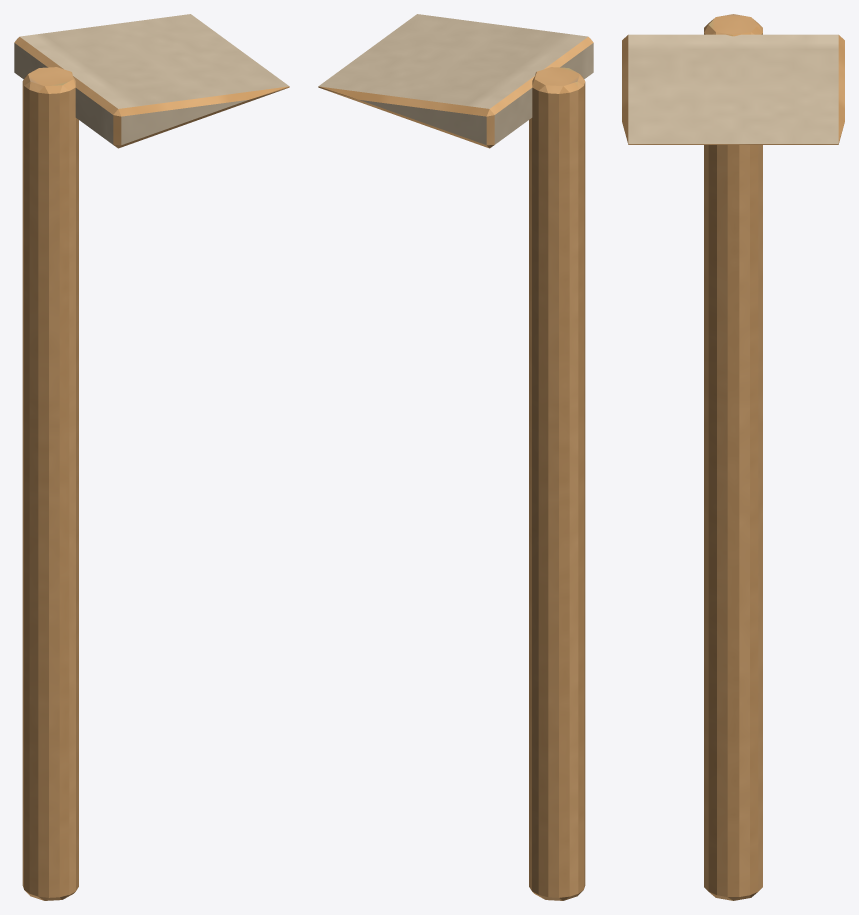
File: sm_tool_hoe_basic.glb
3 renders of one model, left to right at view 1: azimuth 30°, elevation 25°; view 2: azimuth 150°, elevation 25°; view 3: azimuth 270°, elevation 25°, orthographic. The views are drawn at different scales.
Parts seen in each view (by area): view 1: sm_tool_hoe_basic; view 2: sm_tool_hoe_basic; view 3: sm_tool_hoe_basic.
Part boxes in pixels (box(x1,y1,x2,y2)): sm_tool_hoe_basic: box(14, 14, 289, 900); sm_tool_hoe_basic: box(318, 14, 593, 900); sm_tool_hoe_basic: box(622, 14, 844, 900).
Bounding box in the file's own units: 0.1645 × 0.6 × 0.14.
1 material, 1 textured.
